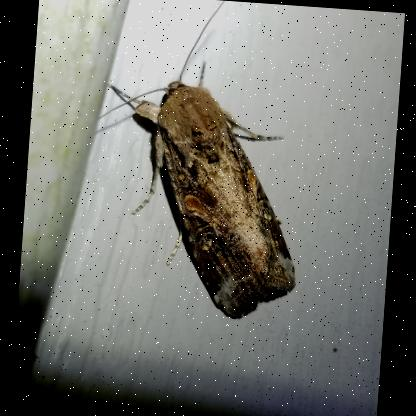Fall Armyworm Moth: (80, 0, 319, 326)
